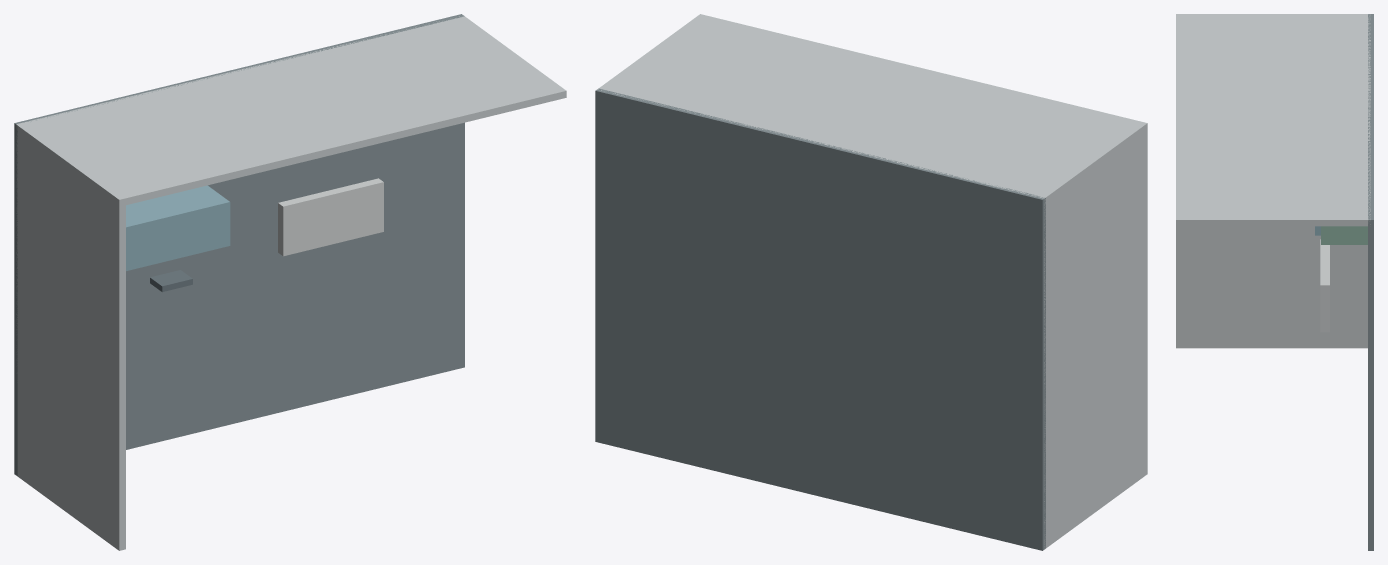
The model's file is ubs-medium.glb.
3 views of the same model, side by side, from view 1: azimuth 30°, elevation 25°; view 2: azimuth 150°, elevation 25°; view 3: azimuth 270°, elevation 25° (orthographic). The views are drawn at different scales.
Visible parts, largest first — view 1: floor, wall_back, wall_left, reception_desk, exam_table; view 2: floor, wall_back, wall_left; view 3: wall_back, wall_left, floor, supplies_cabinet, exam_table.
Boxes of the visible parts, x1=… form: floor: x1=14, y1=14, x2=464, y2=476; wall_back: x1=16, y1=16, x2=566, y2=206; wall_left: x1=16, y1=122, x2=125, y2=550; reception_desk: x1=126, y1=185, x2=230, y2=270; exam_table: x1=278, y1=178, x2=383, y2=256; floor: x1=595, y1=88, x2=1045, y2=550; wall_back: x1=598, y1=14, x2=1147, y2=204; wall_left: x1=1040, y1=122, x2=1147, y2=548; wall_back: x1=1176, y1=14, x2=1370, y2=226; wall_left: x1=1176, y1=14, x2=1367, y2=348; floor: x1=1368, y1=14, x2=1373, y2=550; supplies_cabinet: x1=1321, y1=226, x2=1367, y2=244; exam_table: x1=1320, y1=239, x2=1329, y2=332.
Bounding box in the file's own units: 8 × 6 × 3.25.
